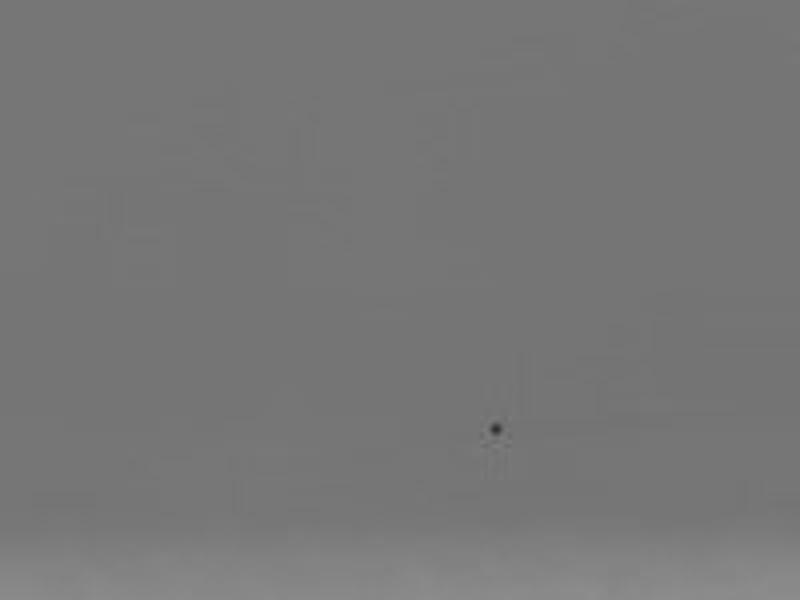defect: (485, 417, 505, 441)
